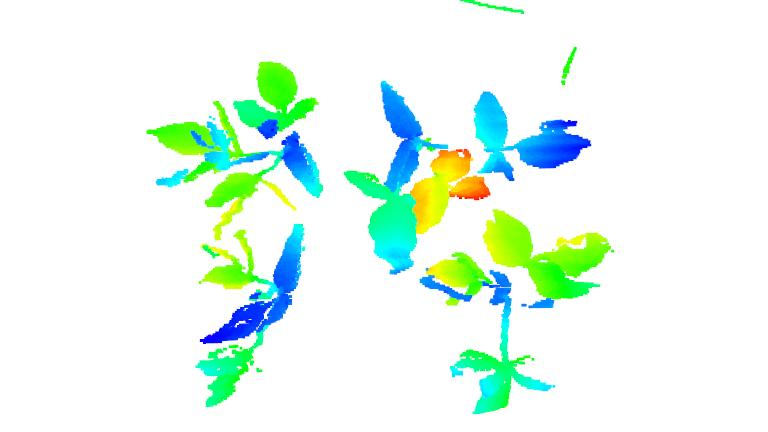mungbean: (341, 72, 592, 278), (425, 207, 614, 416), (142, 57, 326, 243), (186, 221, 314, 410)
